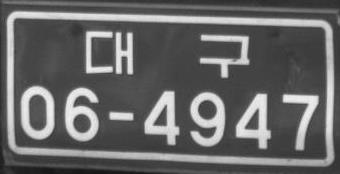0: (19, 84, 55, 141)
4: (235, 93, 272, 149), (143, 90, 180, 145)
6: (64, 84, 99, 141)
7: (282, 92, 320, 150)
9: (190, 91, 226, 148)
대구_D: (85, 30, 249, 79)
